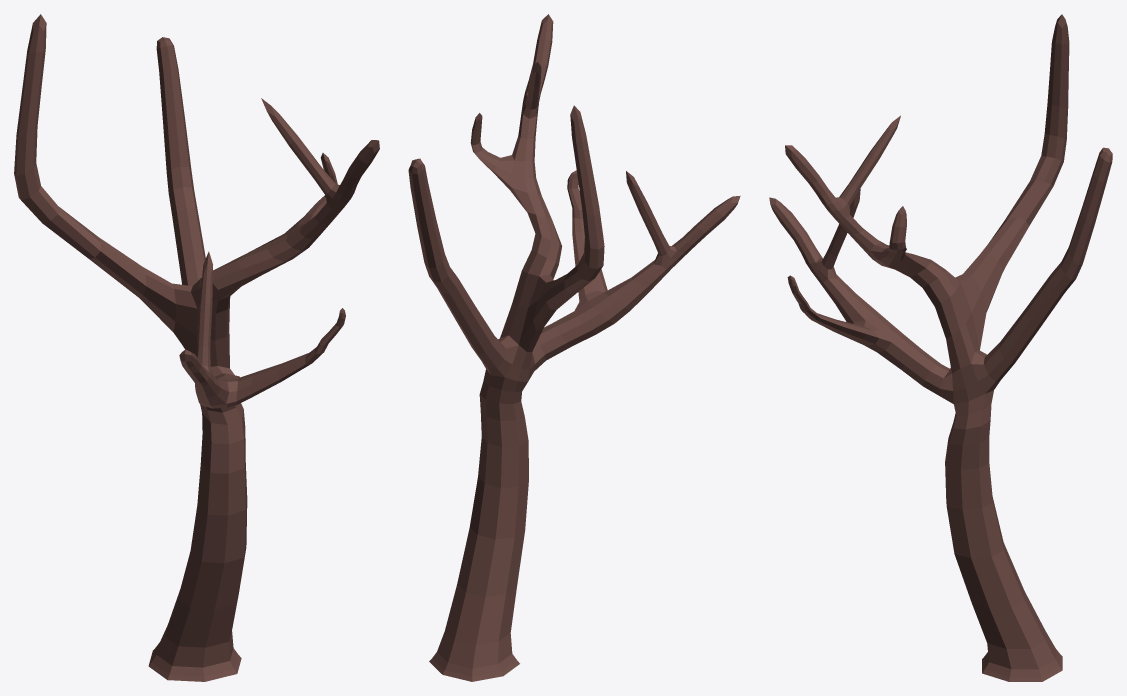
Rendered from Common Tree Dead 5.glb.
3 renders of one model, left to right at view 1: azimuth 30°, elevation 25°; view 2: azimuth 150°, elevation 25°; view 3: azimuth 270°, elevation 25°, orthographic. The views are drawn at different scales.
Visible parts, largest first — view 1: CommonTree_Dead_5; view 2: CommonTree_Dead_5; view 3: CommonTree_Dead_5.
Part boxes in pixels (x1=…): CommonTree_Dead_5: x1=14, y1=14, x2=379, y2=681; CommonTree_Dead_5: x1=408, y1=14, x2=740, y2=681; CommonTree_Dead_5: x1=769, y1=14, x2=1112, y2=681.
Bounding box in the file's own units: 0.8443 × 2.3 × 1.2.
